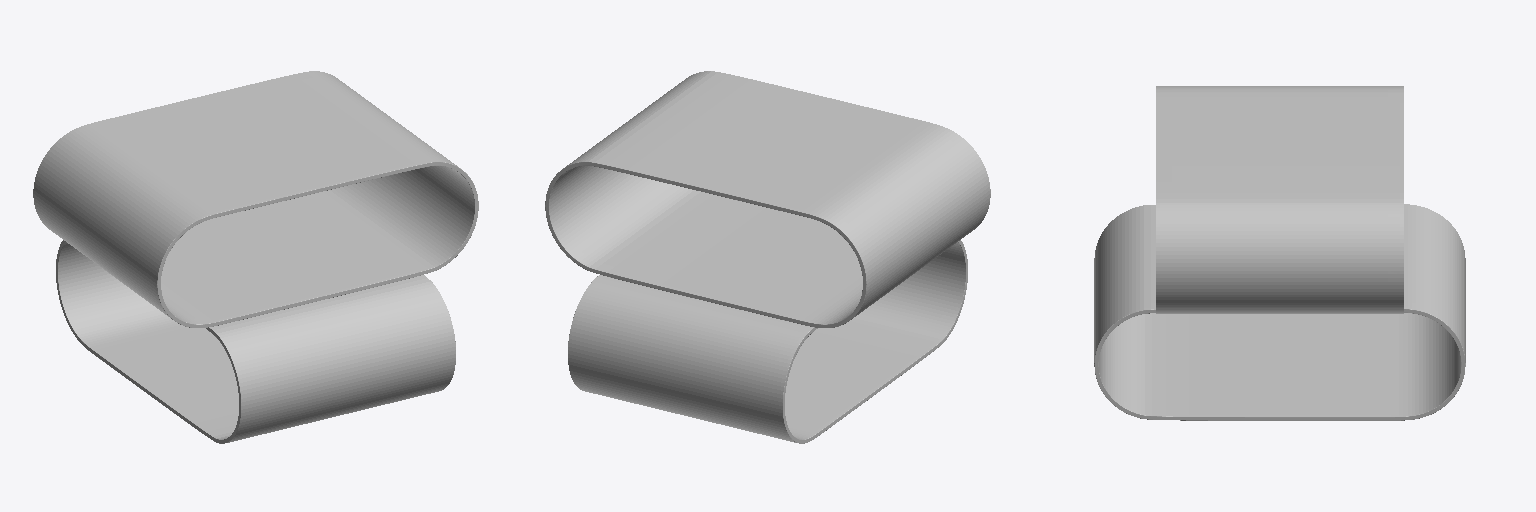
File: uploads_files_1900785_ehr_coffee_table.obj
The picture shows the model from 3 angles: view 1: azimuth 30°, elevation 25°; view 2: azimuth 150°, elevation 25°; view 3: azimuth 270°, elevation 25°; orthographic projection.
Visible parts, largest first — view 1: ehr_coffee_table_top, ehr_coffee_table_base; view 2: ehr_coffee_table_top, ehr_coffee_table_base; view 3: ehr_coffee_table_top, ehr_coffee_table_base.
Boxes of the visible parts, <box> form: ehr_coffee_table_top: <box>33,71,478,327</box>; ehr_coffee_table_base: <box>56,240,455,443</box>; ehr_coffee_table_top: <box>545,71,990,327</box>; ehr_coffee_table_base: <box>568,240,967,443</box>; ehr_coffee_table_top: <box>1156,86,1403,313</box>; ehr_coffee_table_base: <box>1094,204,1465,420</box>.
Bounding box in the file's own units: 30.42 × 20.36 × 30.42.